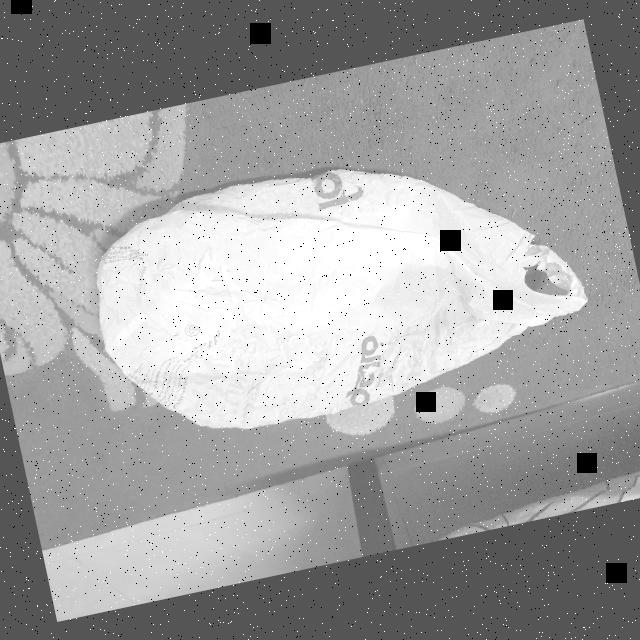plastic_bag: (68, 112, 610, 466)
